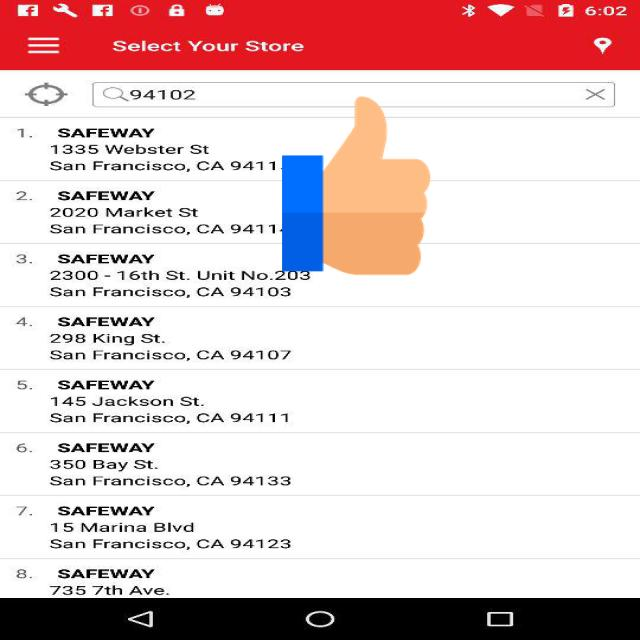privacy zuckering: (282, 92, 430, 279)
